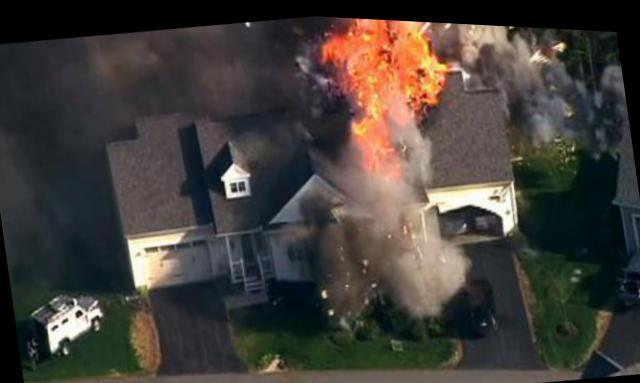fire: (328, 16, 434, 120), (350, 110, 392, 168)
